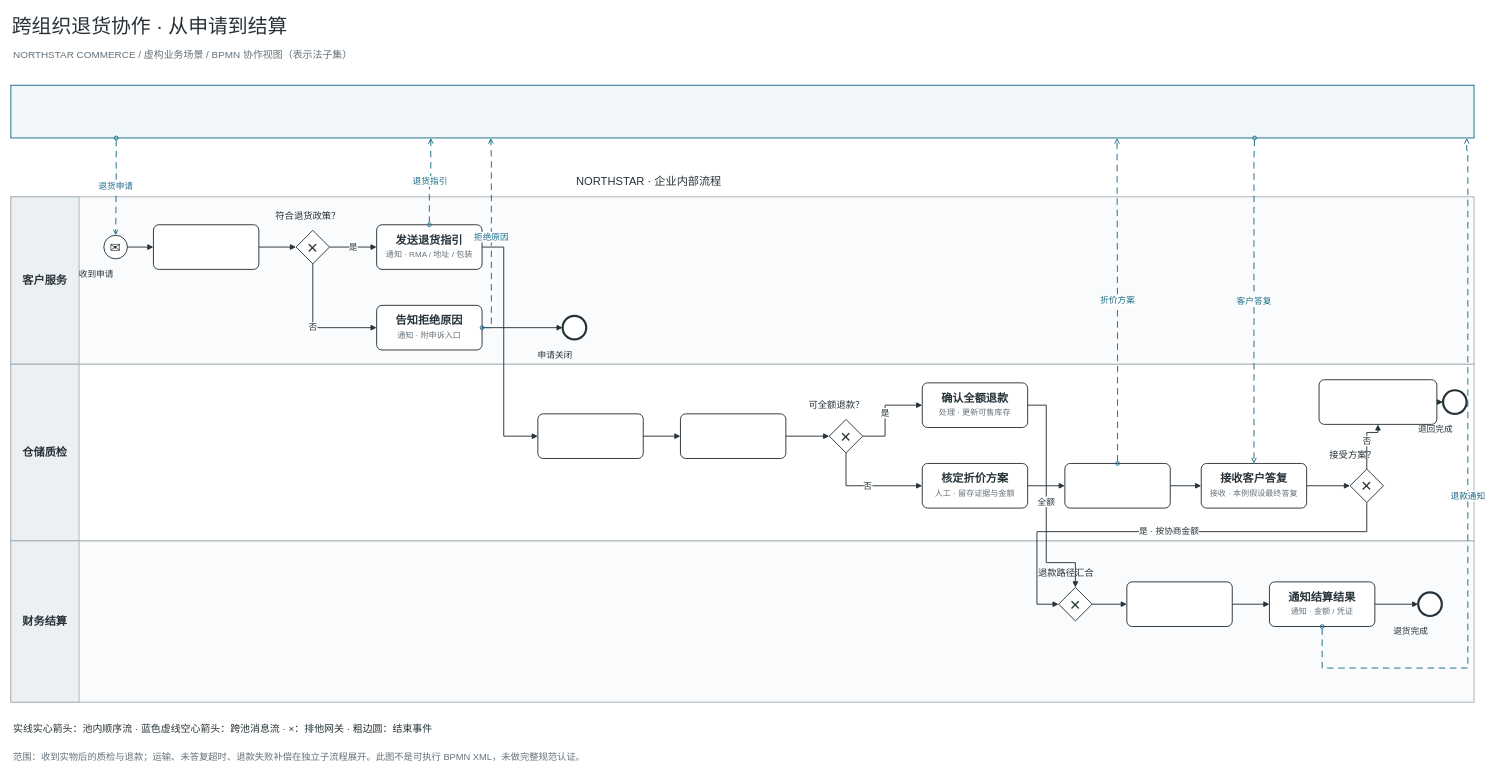
Some shapes in this 1505 by 777 pixel diagram are drawn without their labels. Each missing label, with the centre of its shape:
"发送折价方案 通知 · 金额 / 处置说明" goes at pixel 1117 485.
"客户 / 独立参与者 · 内部过程不展开" goes at pixel 742 111.
"执行原路退款 服务 · 幂等键 = RMA" goes at pixel 1179 604.
"接收并登记包裹 人工 · 扫码绑定 RMA" goes at pixel 590 436.
"核验退货资格 人工 · 订单 / 时效 / 品类" goes at pixel 206 247.
"检查商品与凭证 人工 · 数量 / 状态 / 配件" goes at pixel 733 436.
"退回商品并结案 处理 · 本例不收退回运费" goes at pixel 1377 402.
